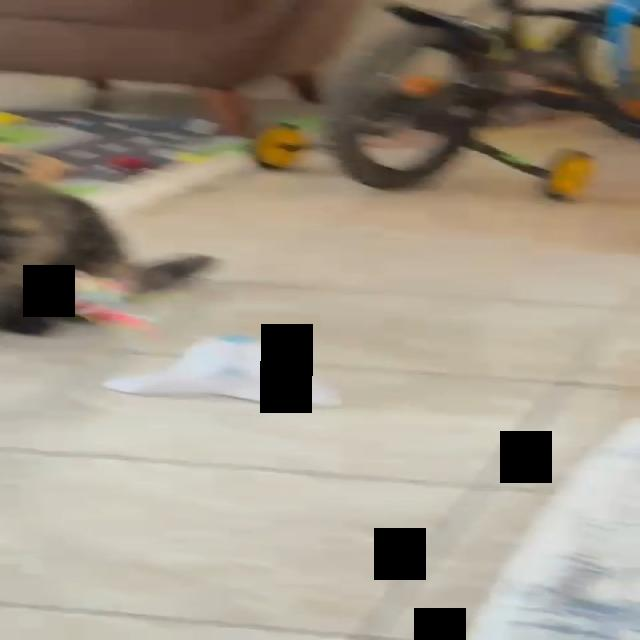authorized: (0, 158, 217, 336)
